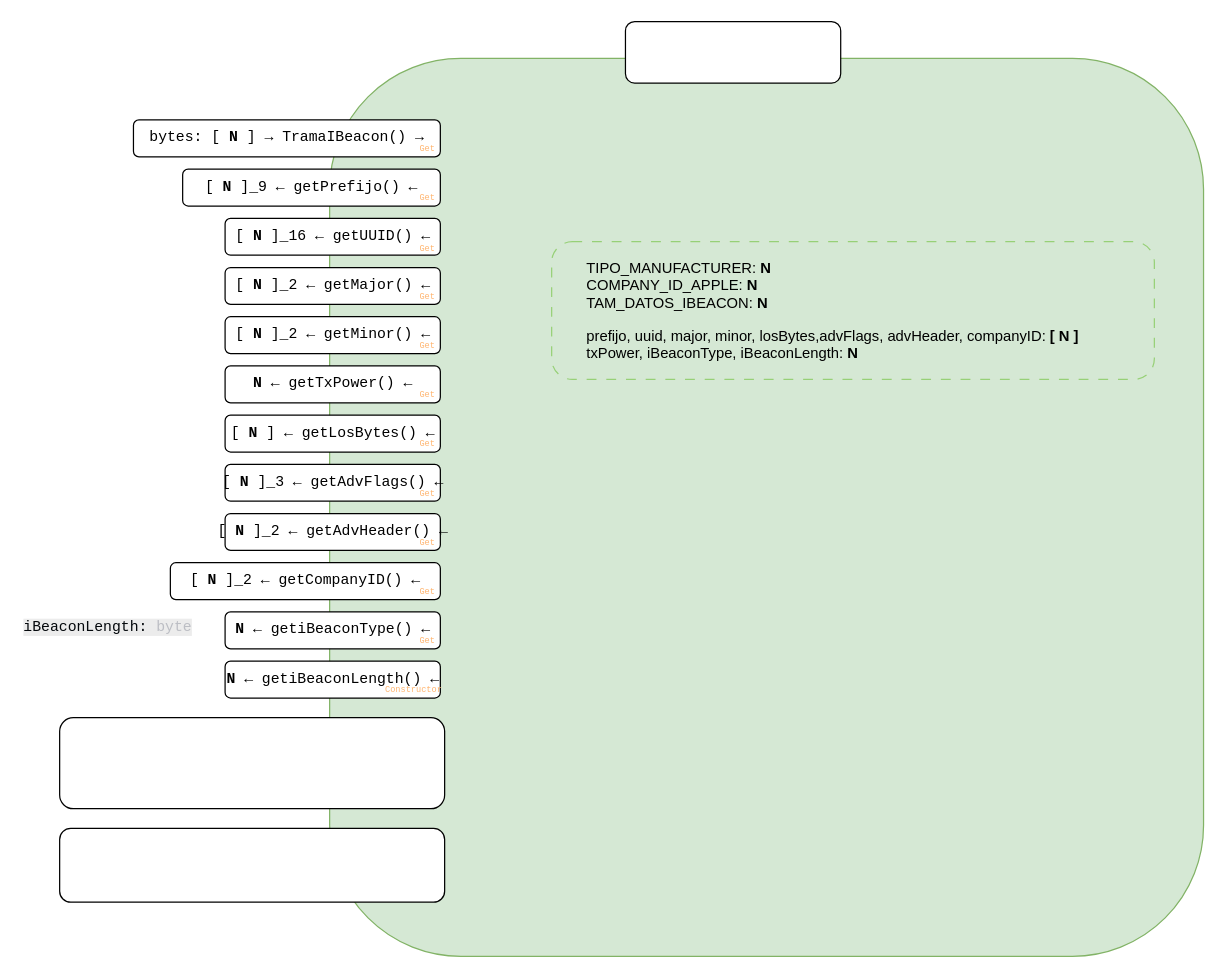
This 1225x978 diagram has some shape labels left out. The centre of each missing label's shape, as x and y in pixels:
"bytes: [ N ] → buscarEstructuraIBeacon() --✕ Z ←" goes at point 251,762.
"bytes: [ N ] → esTramaIBeacon() --✕ B ←" goes at point 251,864.
"TramaIBeacon" goes at point 732,51.
